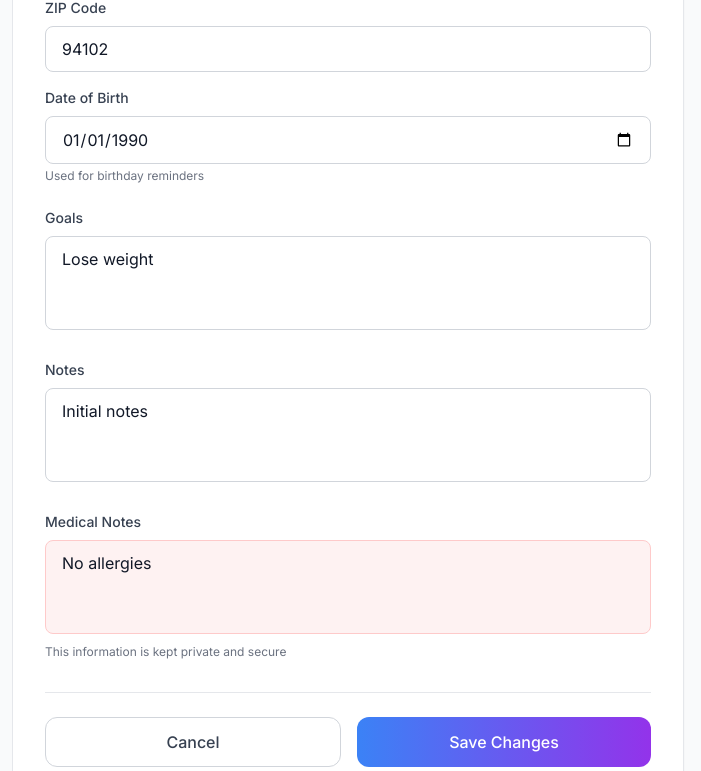
Test: EditClientPage › should show error message when update fails
This screenshot has width=701, height=771.
(page scrolled)
Click the button "Save Changes" at [504, 742], box [357, 717, 651, 767]
(page scrolled)
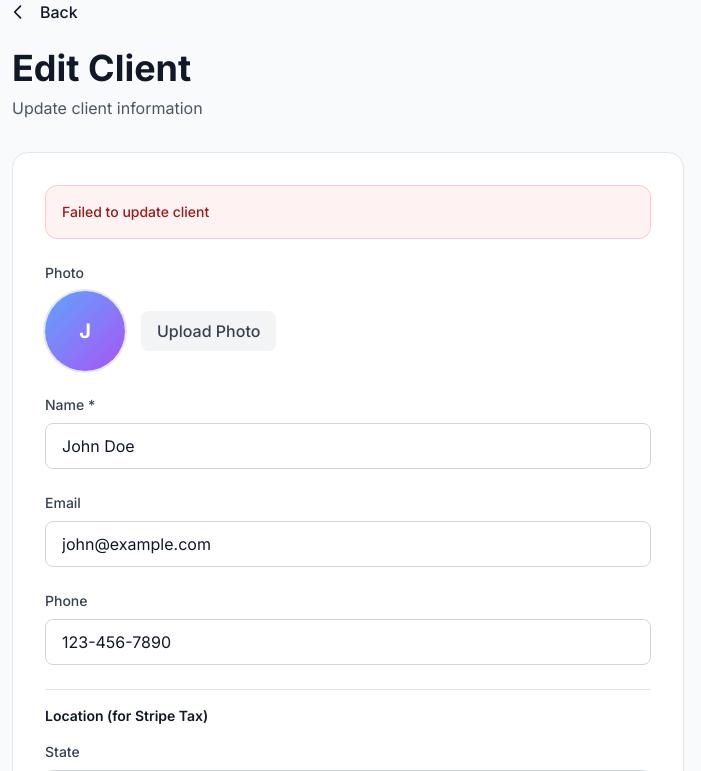
Result: the text "Failed to update client" is shown at [62, 203, 209, 220]
